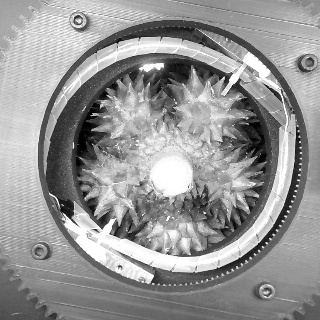base: (144, 144, 194, 196)
end: (149, 155, 193, 196)
